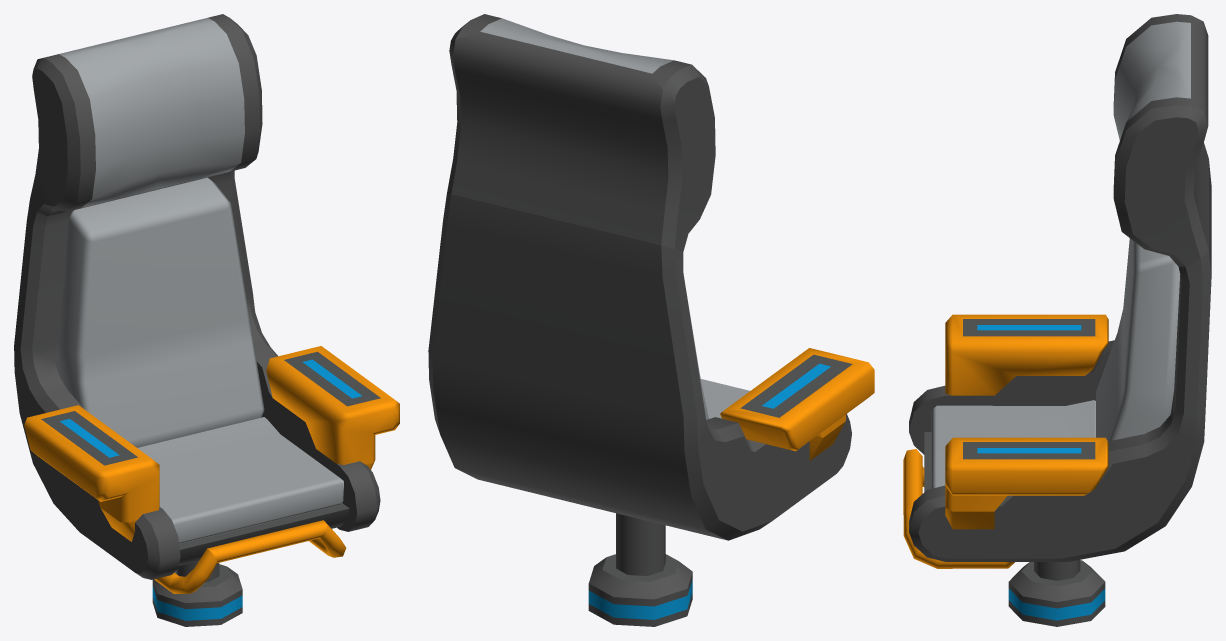
Rendered from Armchair_010.fbx.
The picture shows the model from 3 angles, left to right: view 1: azimuth 30°, elevation 25°; view 2: azimuth 150°, elevation 25°; view 3: azimuth 270°, elevation 25°; orthographic projection. The views are drawn at different scales.
Parts seen in each view (by area): view 1: Armchair_010; view 2: Armchair_010; view 3: Armchair_010.
Part boxes in pixels (x1,y1,x2,y2): Armchair_010: [14, 14, 399, 626]; Armchair_010: [428, 14, 874, 626]; Armchair_010: [903, 14, 1211, 626].
Size of the model in its own units: 90.34 by 76.18 by 149.
